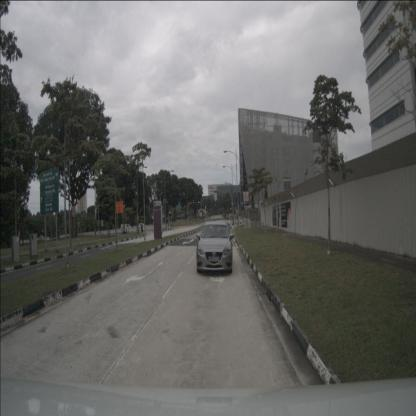vehicle-car: (196, 221, 233, 274), (120, 224, 130, 231)
